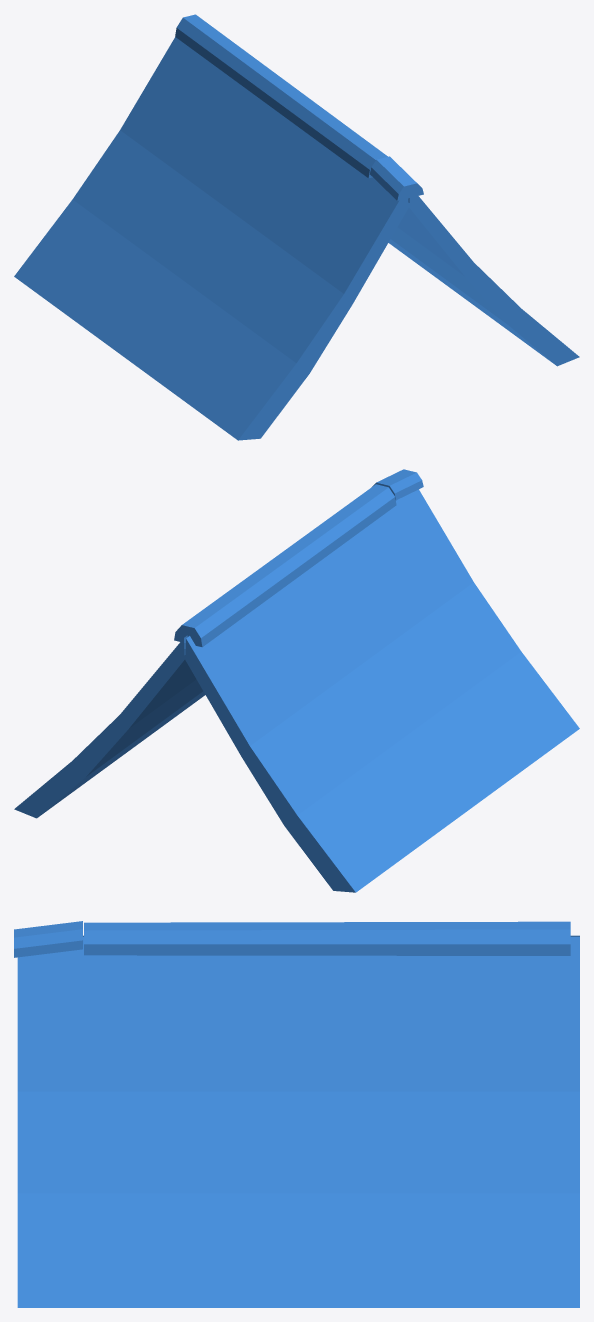
The model's file is Collision_Roof_FlatTiles_6x8.fbx.
3 views of the same model, one above another, from view 1: azimuth 30°, elevation 25°; view 2: azimuth 150°, elevation 25°; view 3: azimuth 270°, elevation 25° (orthographic). The views are drawn at different scales.
Parts seen in each view (by area): view 1: UCX_Roof_FlatTiles_6x8_01; view 2: UCX_Roof_FlatTiles_6x8_01; view 3: UCX_Roof_FlatTiles_6x8_01.
Part boxes in pixels (<box>): UCX_Roof_FlatTiles_6x8_01: <box>14,14,579,440</box>; UCX_Roof_FlatTiles_6x8_01: <box>14,469,579,892</box>; UCX_Roof_FlatTiles_6x8_01: <box>14,921,579,1307</box>.
Bounding box in the file's own units: 861 × 543 × 984.
